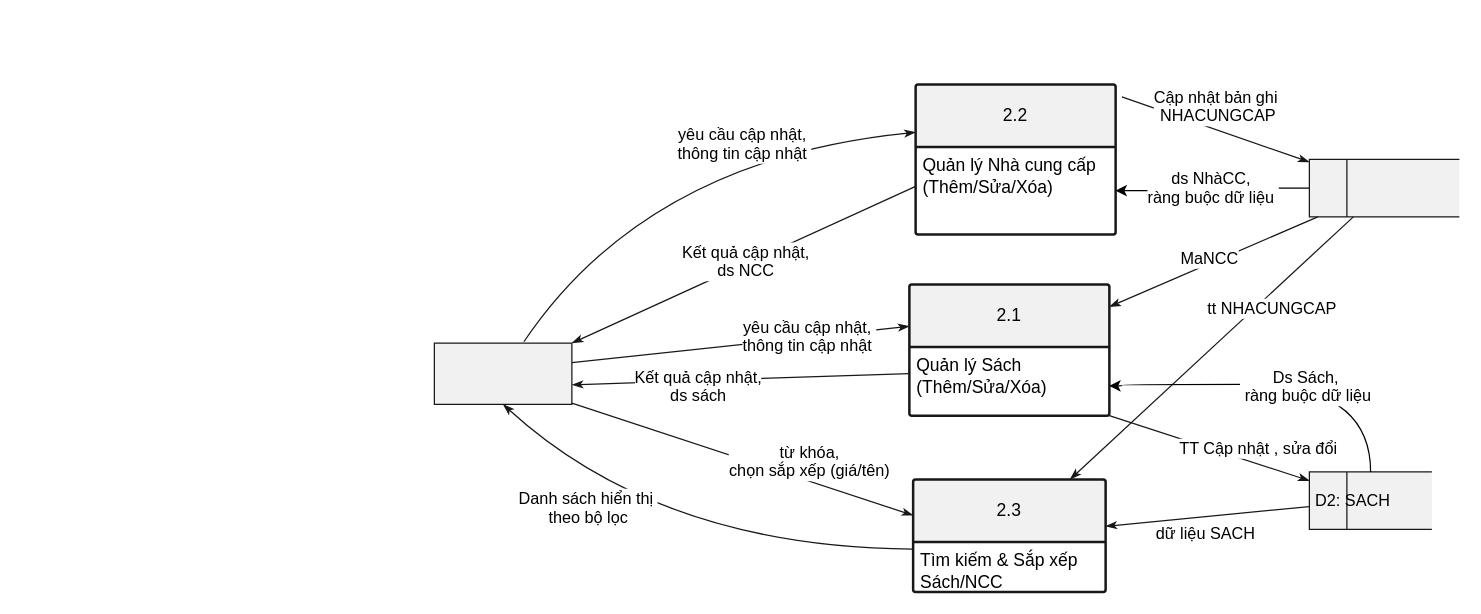
This 1481x614 diagram has some shape labels left out. Here are the shapes that lost their labels. From the top down, the centre of each, then its label:
At point 1383,187: "D3: NHACUNGCAP".
At point 502,373: "Quản lý kho".
